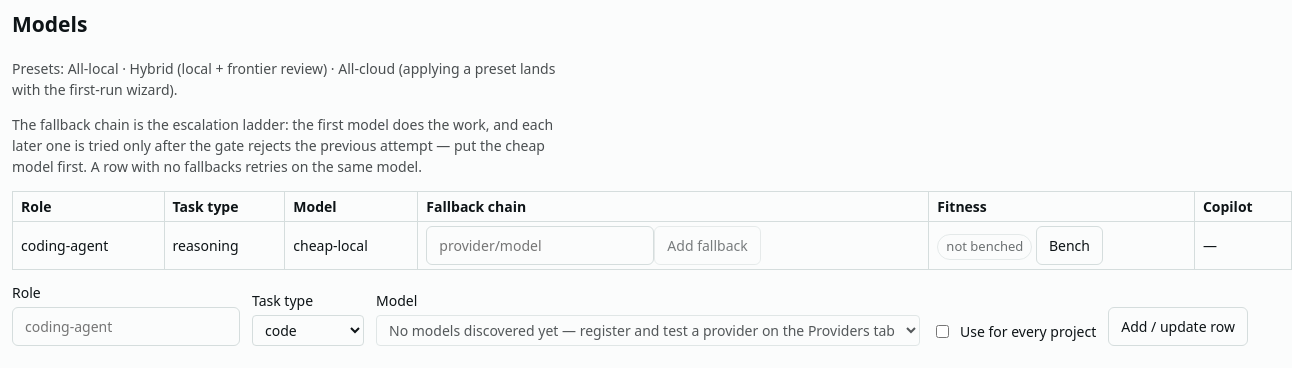
Test: the fallback-chain editor (W17-08) › RED FIXTURE: adding a fallback writes the row back with the chain — the saved matrix round-trips fallback[], never drops it
This screenshot has width=1292, height=368.
Step 1. Type "cloud/frontier" into the field named "Add fallback model for coding-agent (reasoning)" → (540, 246), box [426,226,654,265]
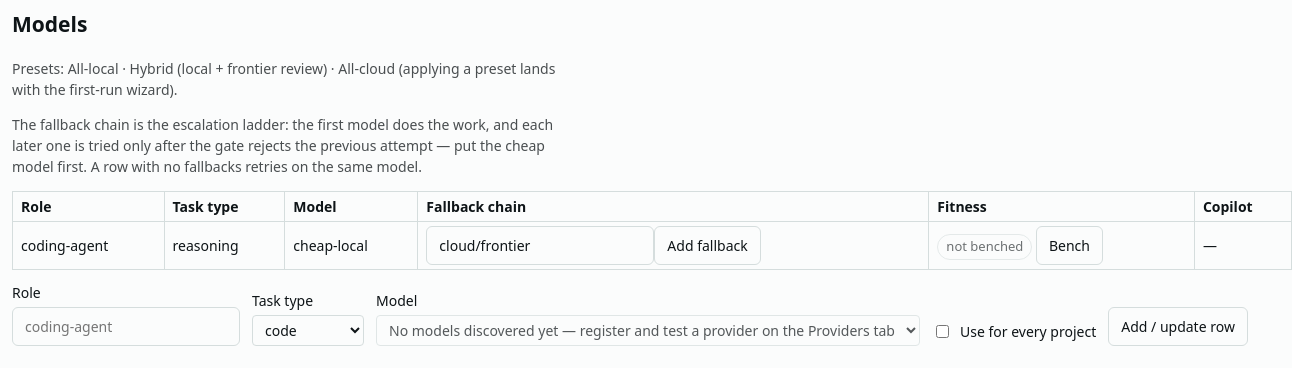
Step 2. Click the button "Add fallback" → (708, 246), box [654,226,761,265]
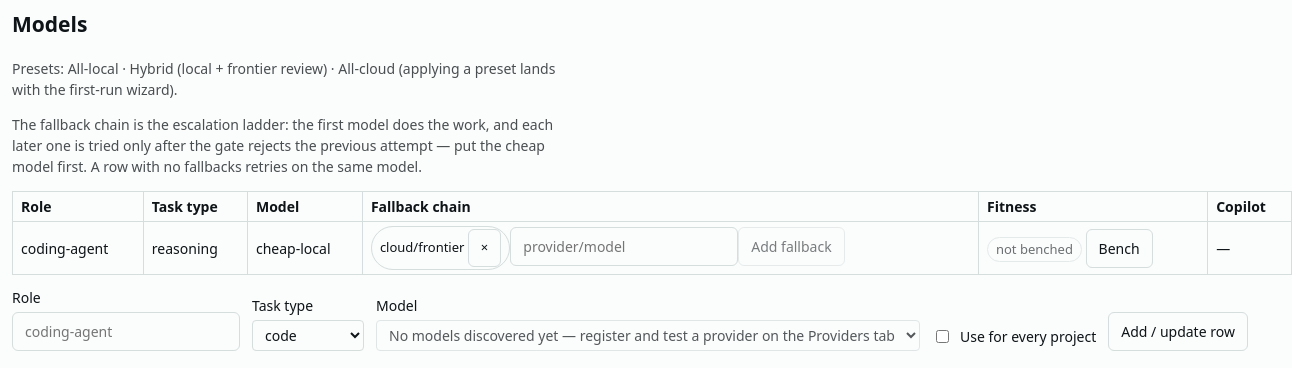
Expected: the cell with test id "fallback-coding-agent:reasoning" shows "cloud/frontier", [380,238,464,256]
